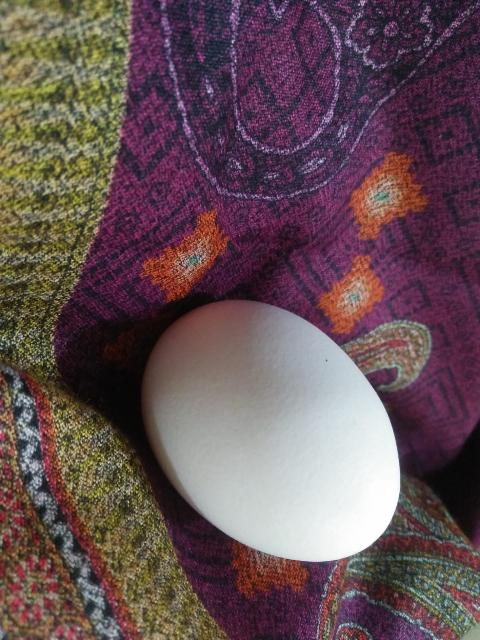Sano: (145, 296, 400, 563)
